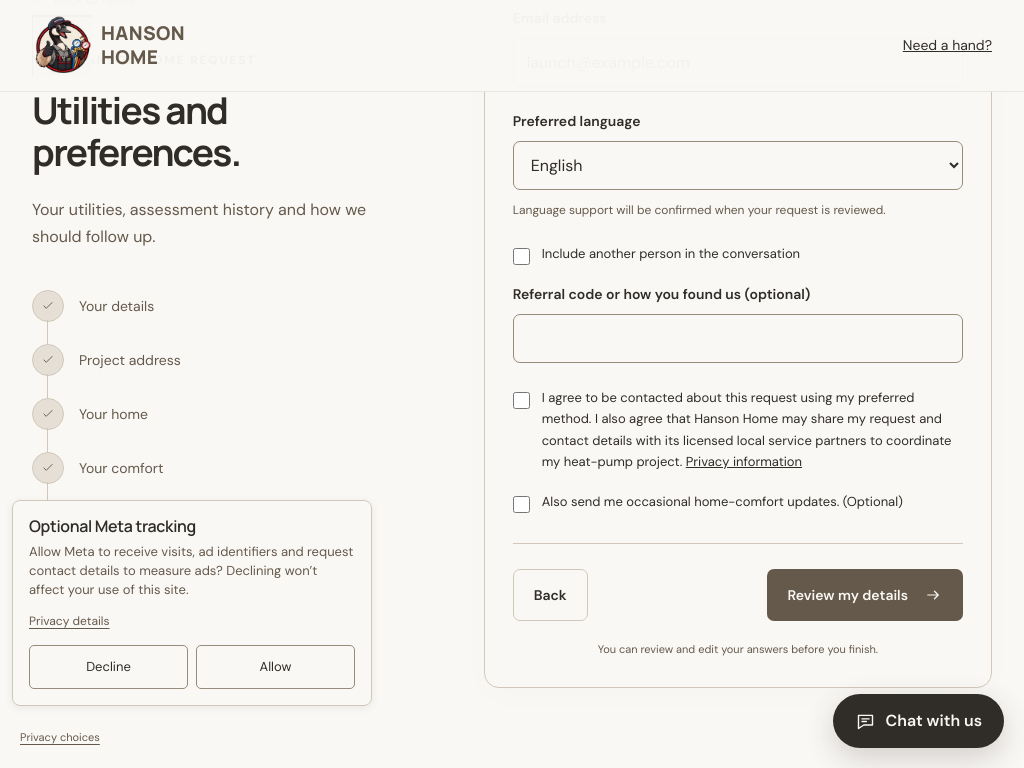
it: a resumed heat-pump request accepts the updated sharing notice before submission
The image size is (1024, 768).
(page scrolled)
Check: the heading "Optional Meta tracking" is shown, box [29,515,196,537]
Check: the checkbox labelled "I agree to be contacted" is not checked, box [513,392,530,409]
Click the button "Review my details": x=865, y=595 [766,569,963,621]
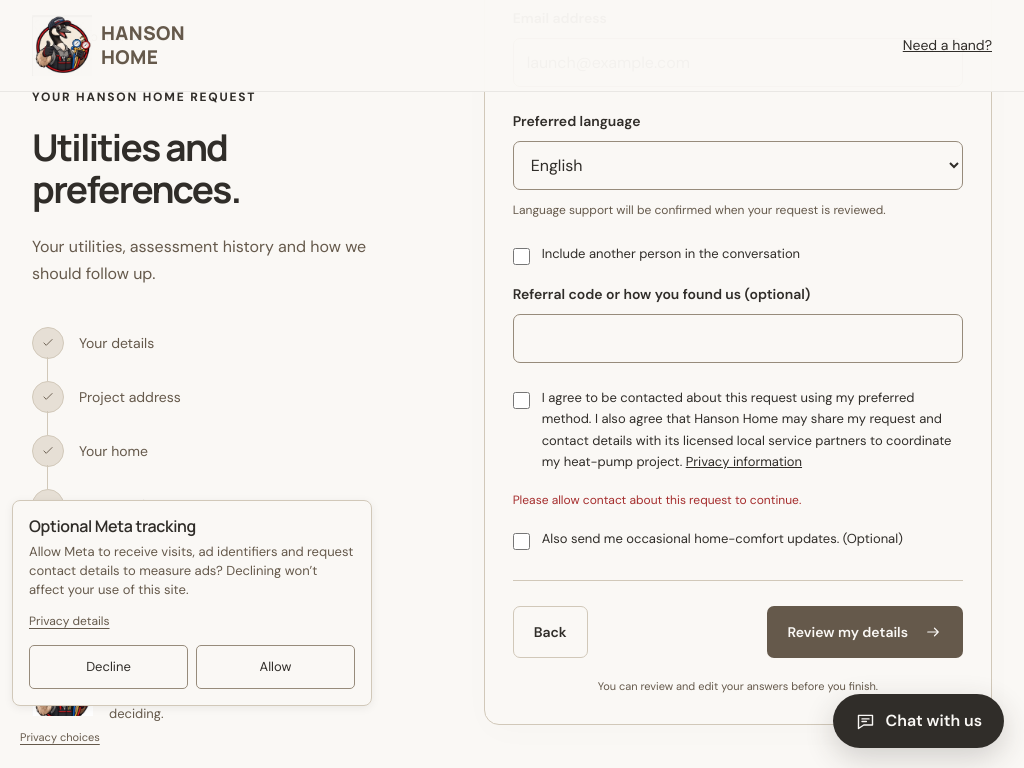
Check: the text "Please allow contact about this request to continue." is shown, box [513,492,801,508]
Click the checkbox labelled "I agree to be contacted": x=521, y=400 [513,392,530,409]
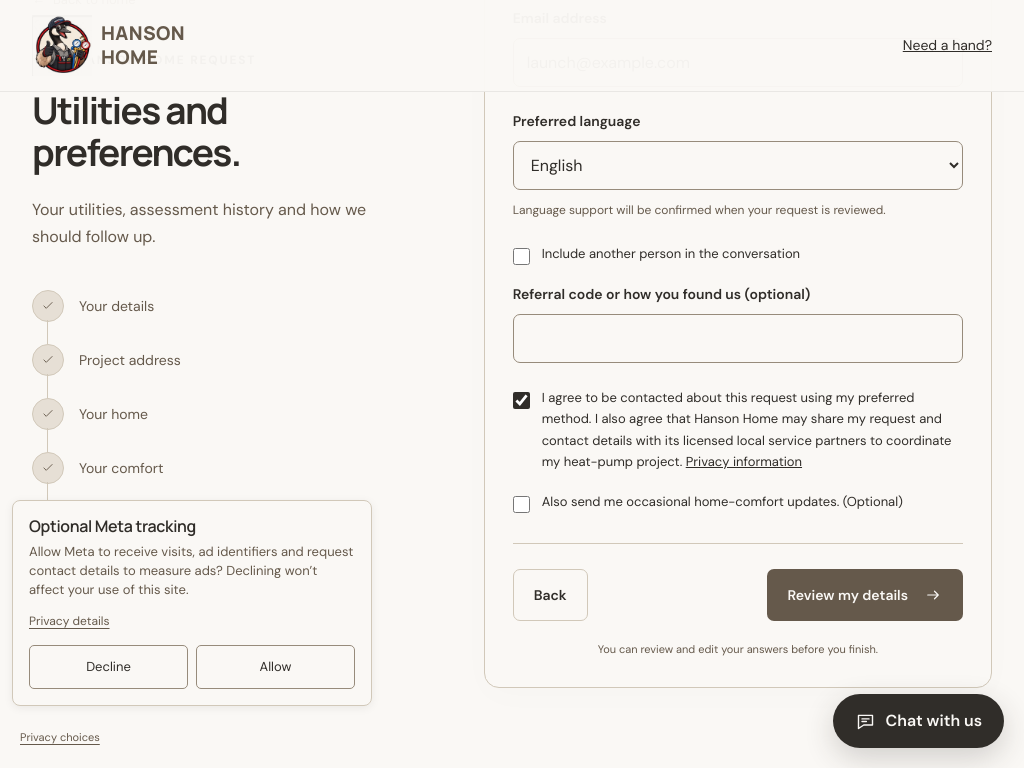
Click the button "Review my details": x=865, y=595 [766,569,963,621]
(page scrolled)
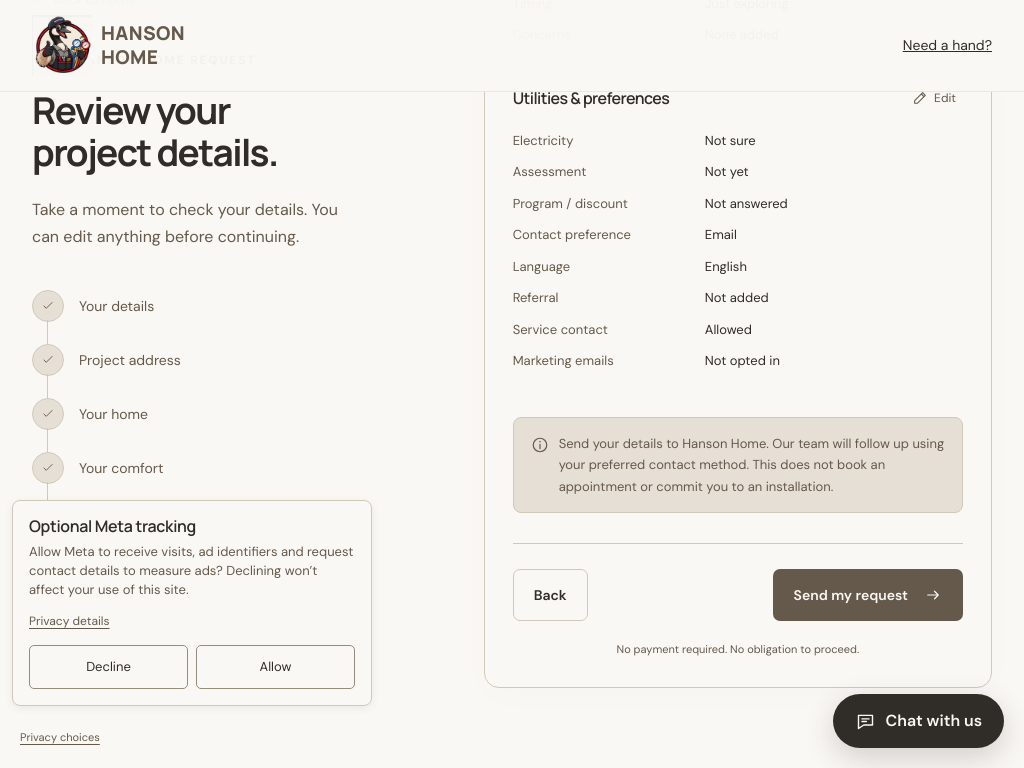
Click the button "Send my request": x=868, y=595 [773,569,963,621]
(page scrolled)
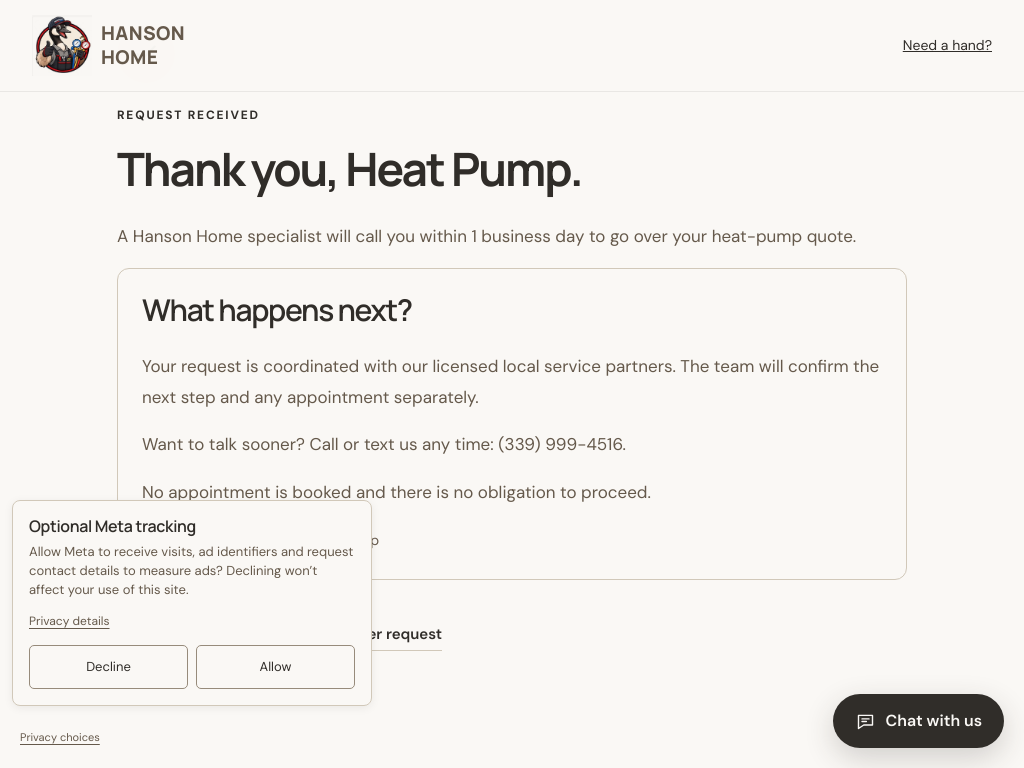
Check: the heading "Thank you, Heat Pump." is shown, box [117,137,582,200]
Check: the text "Your request is coordinated with our licensed local service" is shown, box [142,355,879,408]
